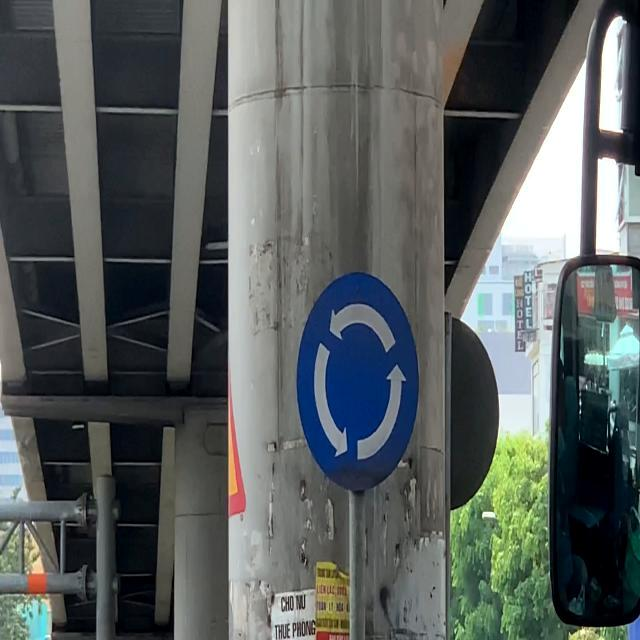Noi giao nhau chay theo vong xuyen: (296, 269, 421, 492)
